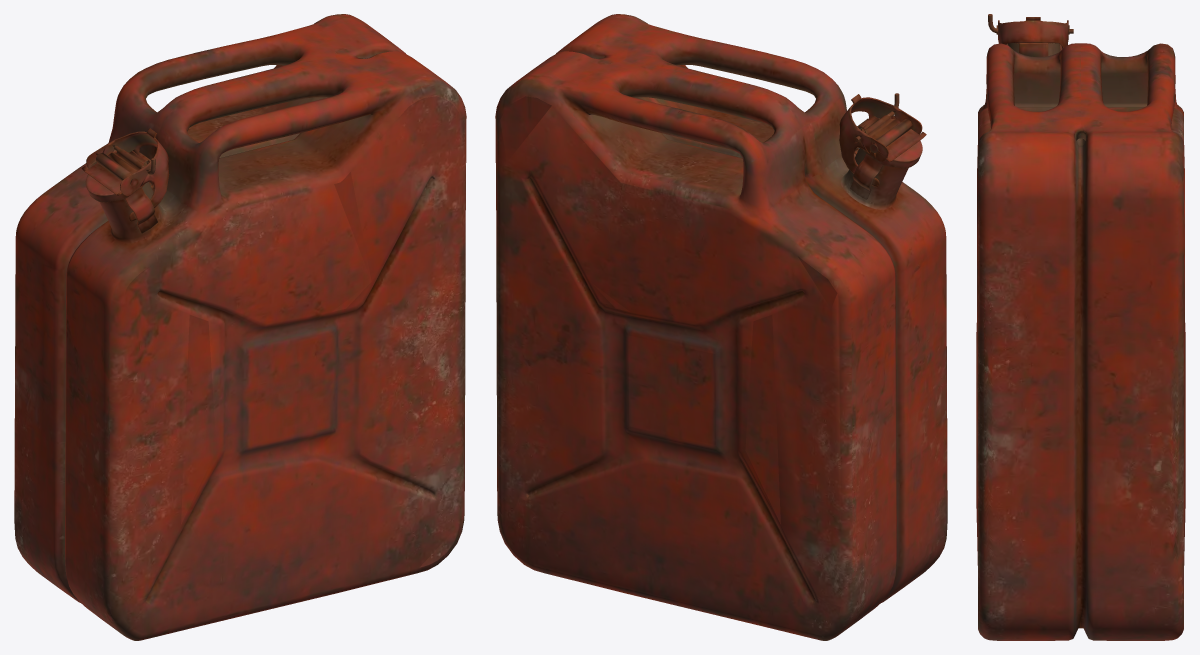
Rendered from metal_jerrycan.glb.
The picture shows the model from 3 angles, left to right: view 1: azimuth 30°, elevation 25°; view 2: azimuth 150°, elevation 25°; view 3: azimuth 270°, elevation 25°; orthographic projection. The views are drawn at different scales.
Parts seen in each view (by area): view 1: metal_jerrycan; view 2: metal_jerrycan; view 3: metal_jerrycan.
Part boxes in pixels (x1=…): metal_jerrycan: x1=14, y1=14, x2=466, y2=640; metal_jerrycan: x1=495, y1=14, x2=947, y2=640; metal_jerrycan: x1=976, y1=14, x2=1185, y2=640.
Bounding box in the file's own units: 0.3503 × 0.4552 × 0.1717.
Materials: 1 (1 with a texture image).
